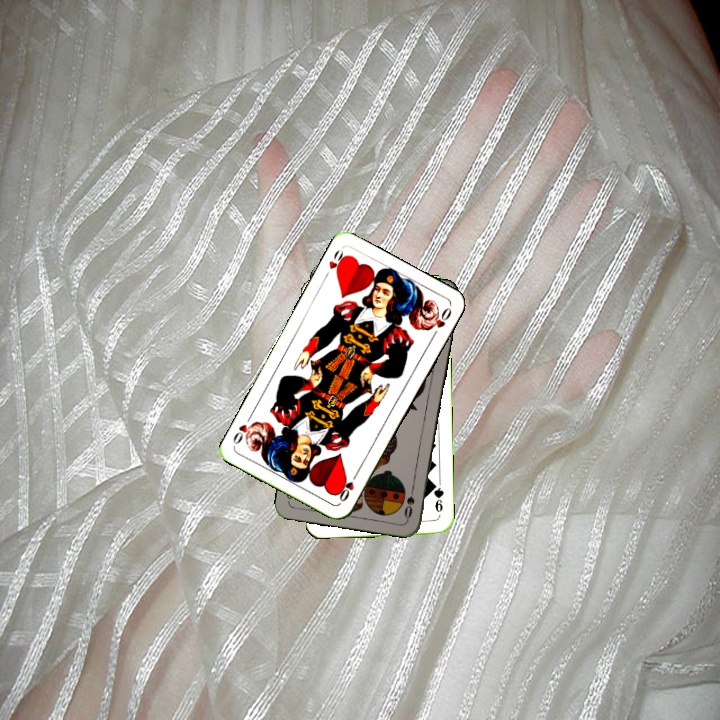G9: (429, 479, 446, 515)
HO: (320, 245, 350, 282), (335, 468, 361, 504)
SO: (400, 481, 417, 521)
